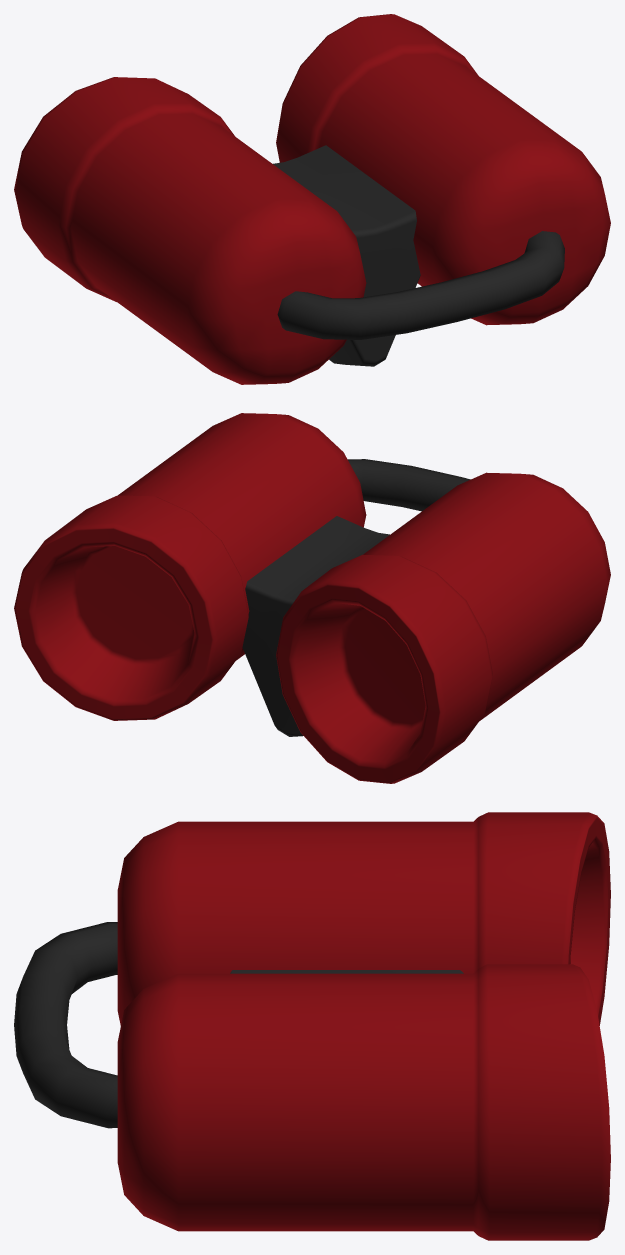
The model's file is Ship_enemy_08_Engine.fbx.
3 views of the same model, one above another, from view 1: azimuth 30°, elevation 25°; view 2: azimuth 150°, elevation 25°; view 3: azimuth 270°, elevation 25° (orthographic). The views are drawn at different scales.
Parts seen in each view (by area): view 1: Ship_enemy_08_Engine; view 2: Ship_enemy_08_Engine; view 3: Ship_enemy_08_Engine.
Part boxes in pixels (x1,y1,x2,y2): Ship_enemy_08_Engine: (14, 14, 610, 384); Ship_enemy_08_Engine: (14, 413, 610, 783); Ship_enemy_08_Engine: (14, 812, 610, 1240).
Size of the model in its own units: 221 by 116 by 207.
